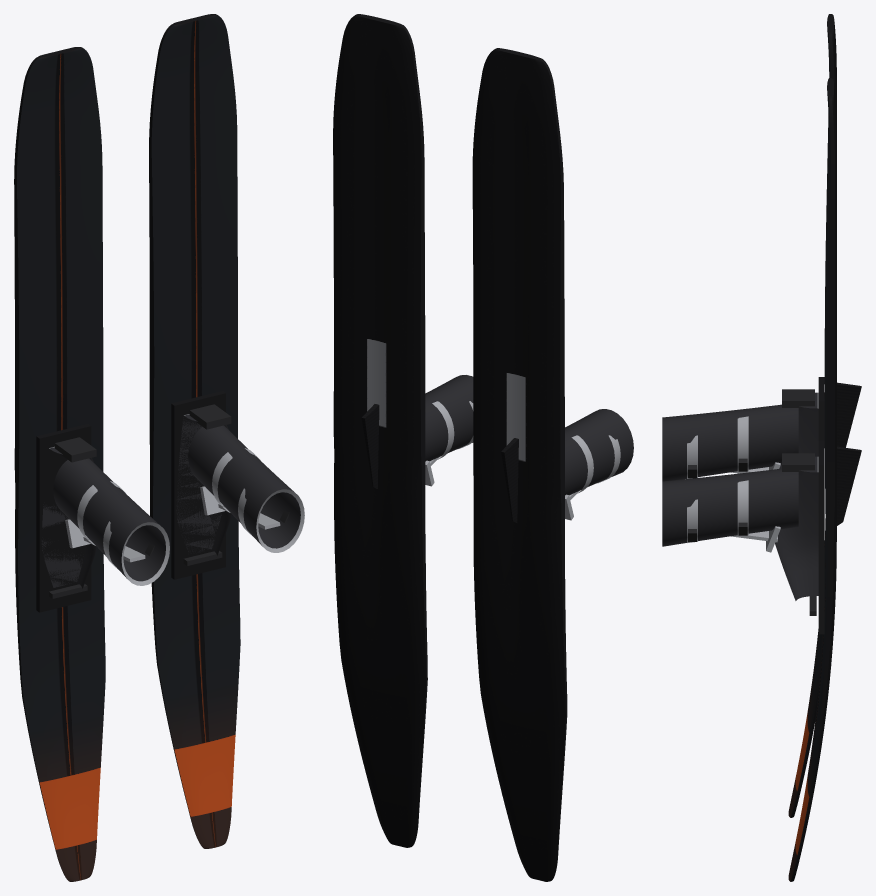
File: JumpSki_V1_Pair.fbx
3 renders of one model, left to right at view 1: azimuth 30°, elevation 25°; view 2: azimuth 150°, elevation 25°; view 3: azimuth 270°, elevation 25°, orthographic. The views are drawn at different scales.
Parts seen in each view (by area): view 1: JumpSki_V1_R_LOD0, JumpSki_V1_L_LOD0, JumpBindings_V1_R_LOD0, JumpBindings_V1_L_LOD0; view 2: JumpSki_V1_R_LOD0, JumpSki_V1_L_LOD0, JumpBindings_V1_R_LOD0, JumpBindings_V1_L_LOD0, JumpFin_V1_L_LOD0, JumpFin_V1_R_LOD0; view 3: JumpBindings_V1_L_LOD0, JumpBindings_V1_R_LOD0, JumpSki_V1_L_LOD0, JumpSki_V1_R_LOD0, JumpFin_V1_L_LOD0, JumpFin_V1_R_LOD0.
Part boxes in pixels (bbox=[...]): JumpSki_V1_R_LOD0: bbox=[14, 47, 105, 881]; JumpSki_V1_L_LOD0: bbox=[149, 14, 240, 848]; JumpBindings_V1_R_LOD0: bbox=[36, 424, 169, 612]; JumpBindings_V1_L_LOD0: bbox=[171, 391, 304, 579]; JumpSki_V1_R_LOD0: bbox=[472, 48, 567, 881]; JumpSki_V1_L_LOD0: bbox=[333, 14, 427, 847]; JumpBindings_V1_R_LOD0: bbox=[565, 409, 633, 520]; JumpBindings_V1_L_LOD0: bbox=[425, 375, 473, 486]; JumpFin_V1_L_LOD0: bbox=[361, 404, 379, 488]; JumpFin_V1_R_LOD0: bbox=[501, 438, 518, 522]; JumpBindings_V1_L_LOD0: bbox=[662, 440, 824, 634]; JumpBindings_V1_R_LOD0: bbox=[662, 377, 824, 481]; JumpSki_V1_L_LOD0: bbox=[788, 78, 836, 881]; JumpSki_V1_R_LOD0: bbox=[788, 14, 836, 817]; JumpFin_V1_L_LOD0: bbox=[837, 446, 861, 525]; JumpFin_V1_R_LOD0: bbox=[837, 382, 861, 447].
Size of what is drawn, in the model's own units: 0.4905 by 1.73 by 0.3951.
